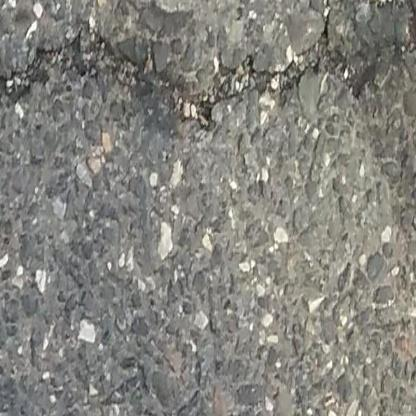Cracks: (0, 45, 55, 115)
